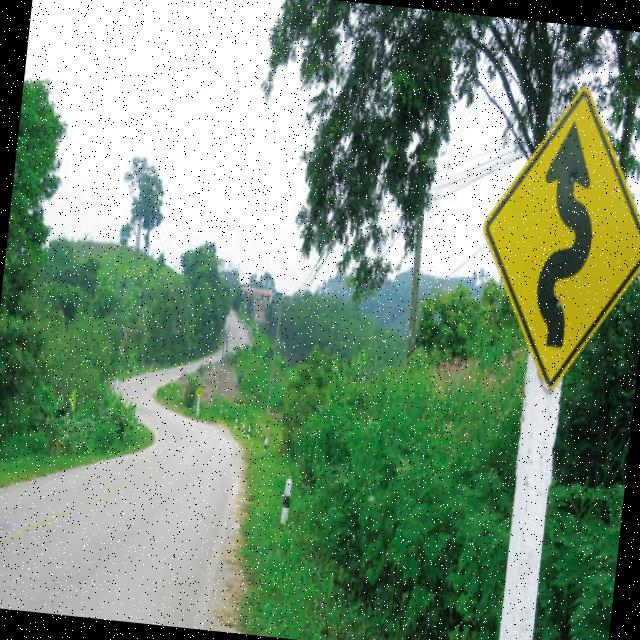left_sharp_curve: (467, 72, 640, 398)
